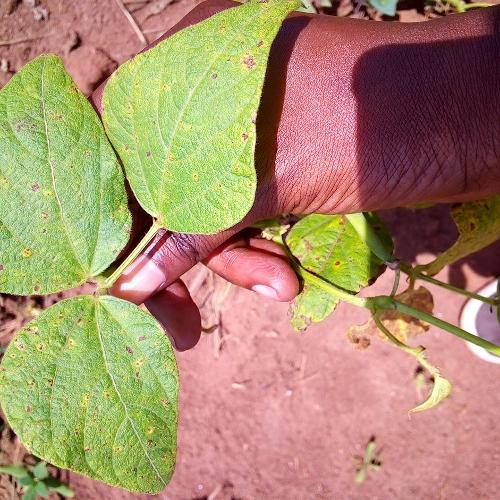hawar: (184, 7, 292, 174), (61, 315, 201, 419), (5, 136, 90, 252), (276, 242, 376, 333)
